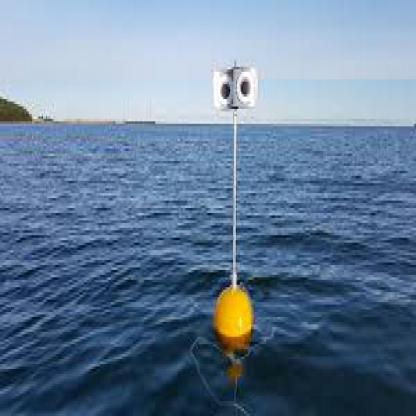buoy: (200, 47, 266, 357)
